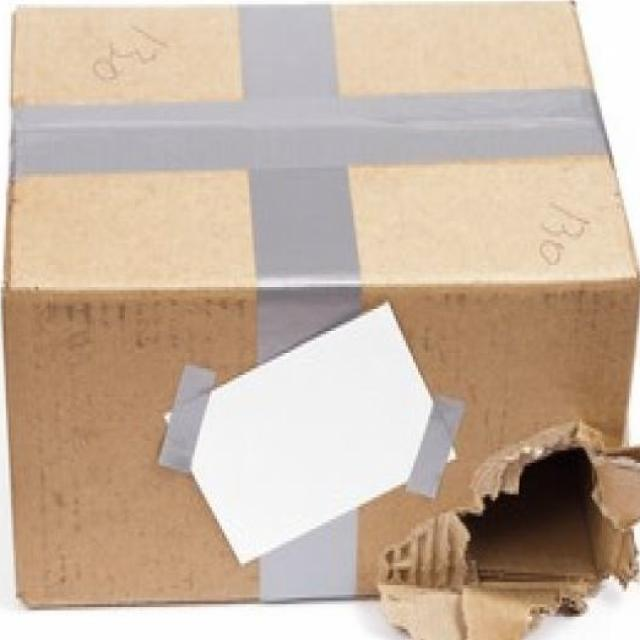hole: (464, 432, 616, 597)
